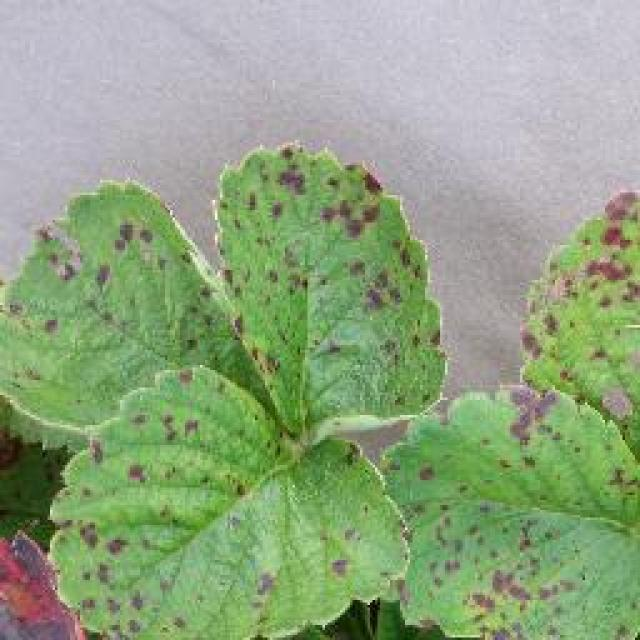Strawberry___Leaf_scorch: (2, 244, 348, 634)
